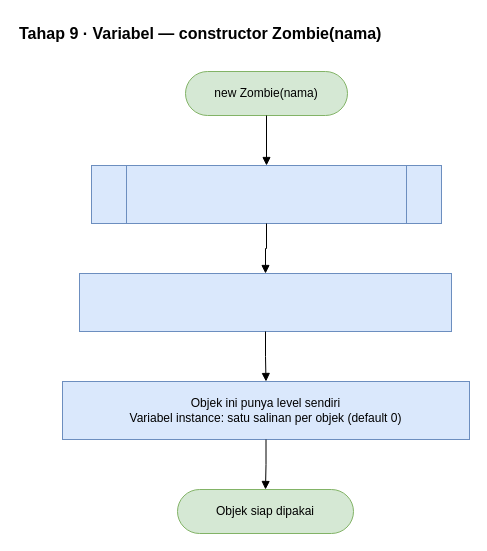
The diagram is 487 pixels wide and 551 high, and some of its shapes have lost their labels. Here are the shapes that lost their labels. From the top down, the box of each, then its label:
(90, 164, 442, 224): super(nama) Makhluk menyimpan nama, nyawa = NYAWA_MAKS
(78, 272, 452, 332): jumlahZombie = jumlahZombie + 1 Variabel static: satu salinan untuk semua zombie
